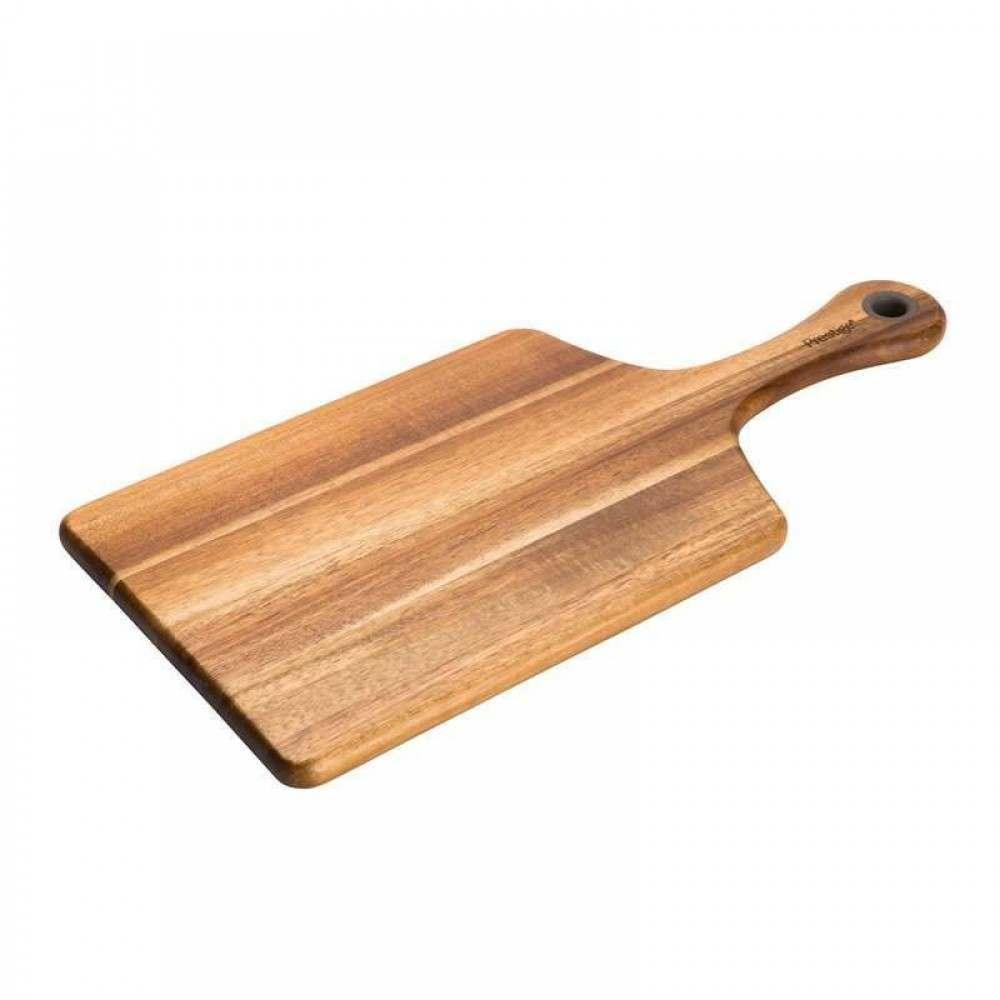gloved_hand: (48, 263, 959, 793)
